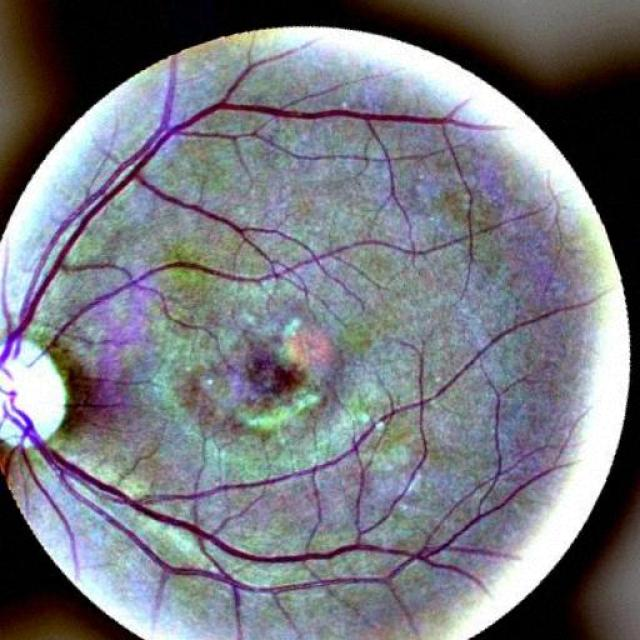Macula: (241, 342, 330, 424)
Nerves: (19, 95, 461, 334), (40, 214, 520, 358), (11, 423, 409, 596)
Optic Disk: (0, 342, 68, 450)
